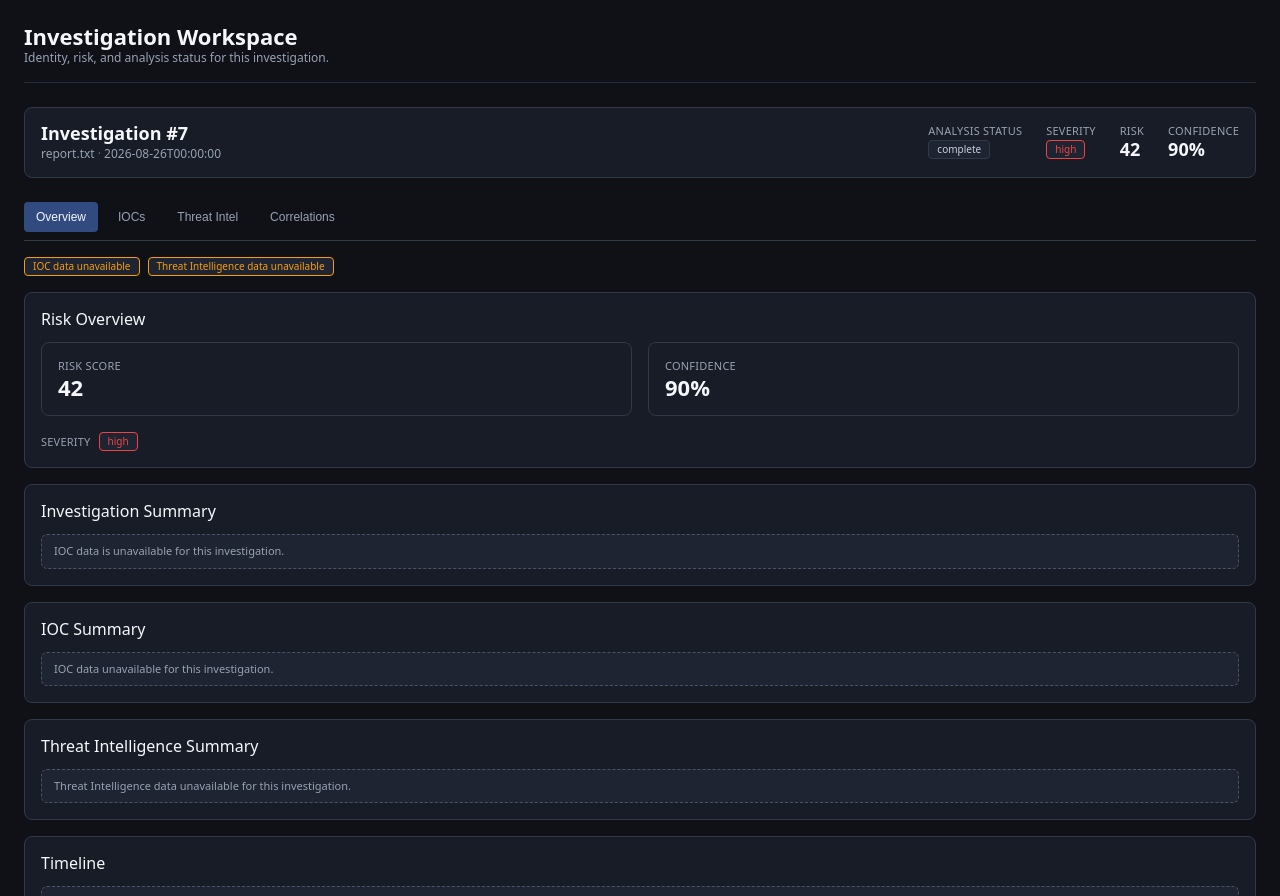
Scenario: InvestigationWorkspacePage › Correlations tab (Part 4A) › shows the honest unavailable state on the Correlations tab when both IOC and TI data failed to load
This screenshot has width=1280, height=896.
Click the tab "Correlations" at (302, 217), box [258,202,347,232]
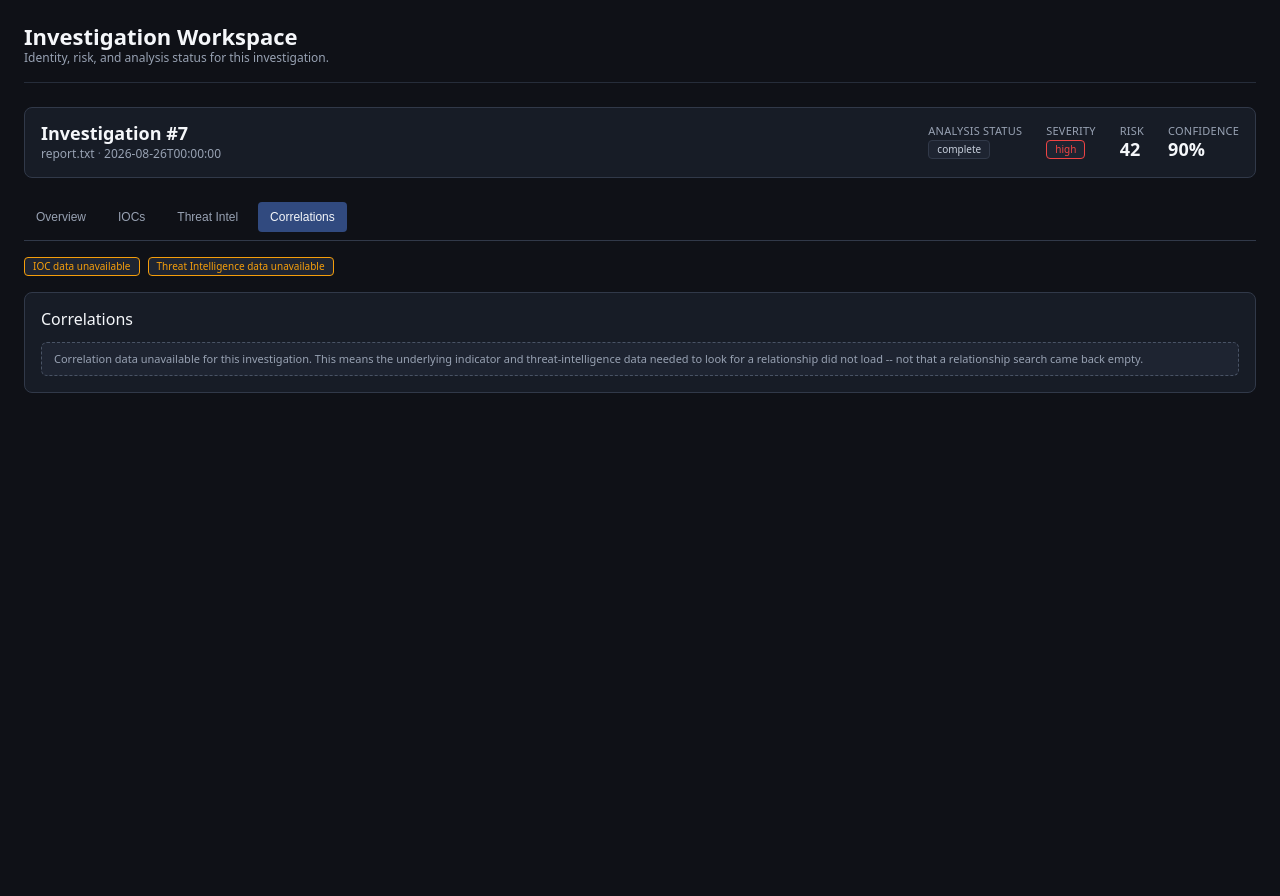
Expected: the element with class "investigation-correlations" shows "Correlation data unavailable", [54,351,1143,366]
